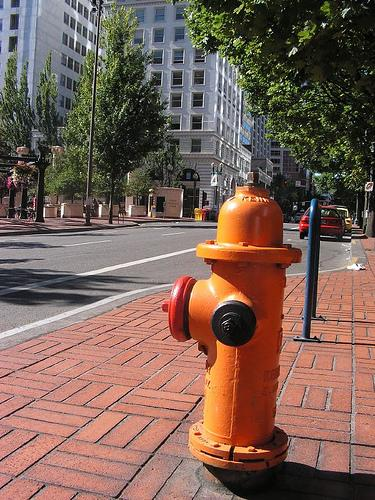firehdyrant: (158, 178, 304, 474)
